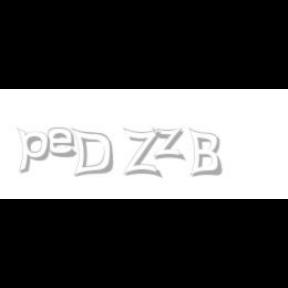B: (188, 128, 222, 178)
D: (70, 128, 114, 178)
Z: (124, 128, 161, 178)
e: (48, 128, 80, 158)
p: (16, 128, 54, 174)
z: (151, 128, 187, 160)
